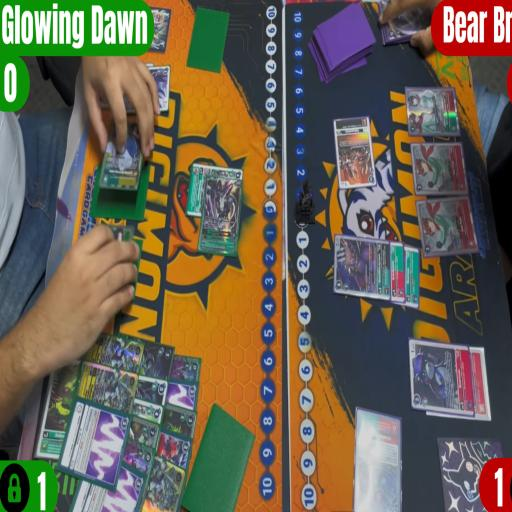card: (62, 399, 132, 492), (352, 406, 407, 512), (408, 334, 474, 418), (70, 458, 150, 512), (333, 232, 390, 305), (37, 362, 81, 454), (416, 198, 478, 260), (200, 174, 241, 257), (81, 362, 138, 420), (410, 142, 470, 196), (138, 448, 187, 512), (333, 116, 375, 190), (99, 123, 144, 191), (403, 86, 460, 137), (86, 328, 144, 374), (383, 0, 433, 43), (129, 64, 170, 116), (468, 342, 494, 422), (114, 444, 159, 480), (139, 338, 176, 380), (122, 416, 161, 454), (157, 427, 194, 466), (167, 352, 208, 384), (162, 403, 198, 438), (164, 380, 202, 411), (134, 373, 169, 406), (125, 396, 164, 424), (405, 248, 423, 306), (186, 164, 206, 216), (390, 244, 406, 306)
